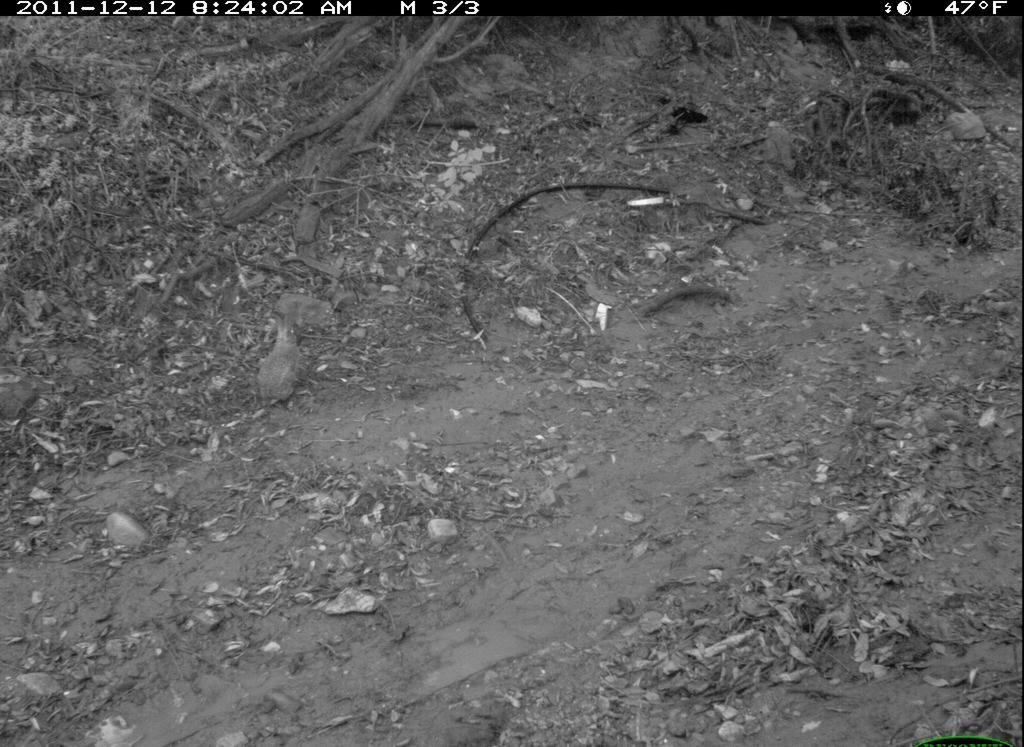rabbit: (246, 303, 310, 409)
